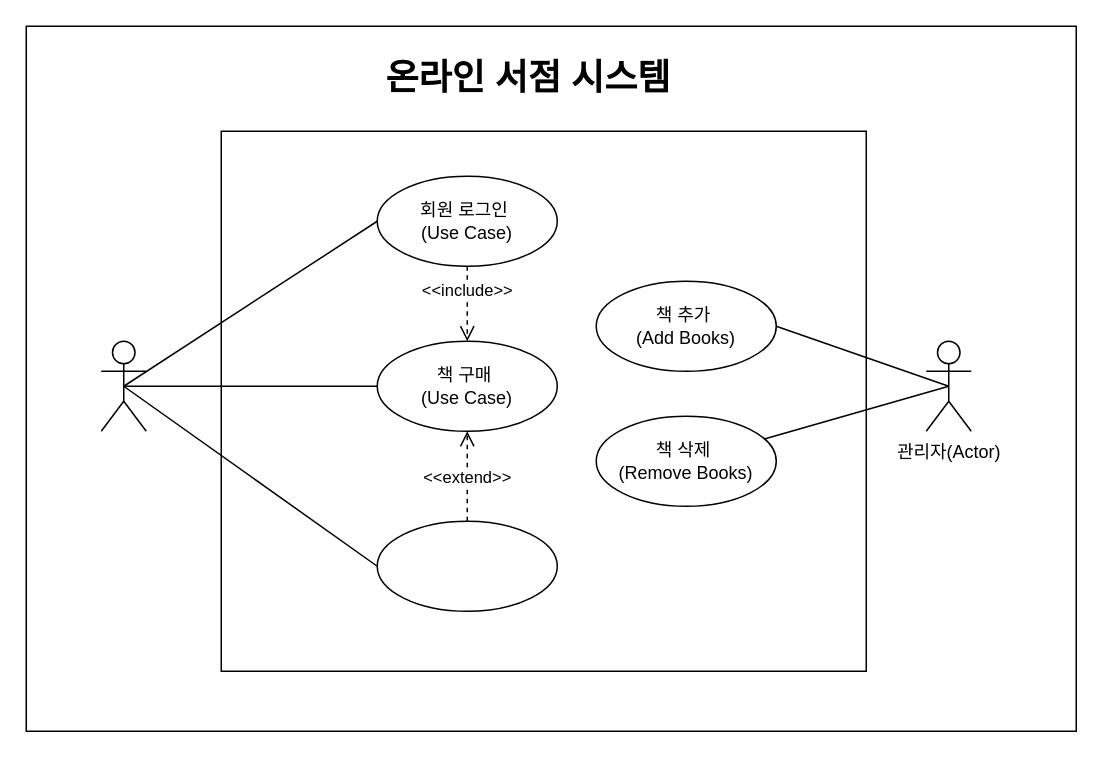
The diagram is 1103 pixels wide and 758 high, and some of its shapes have lost their labels. Each missing label, with the centre of its shape:
"고객(Actor)" goes at point (123, 385).
"할인 적용 (Use Case)" goes at point (466, 565).
